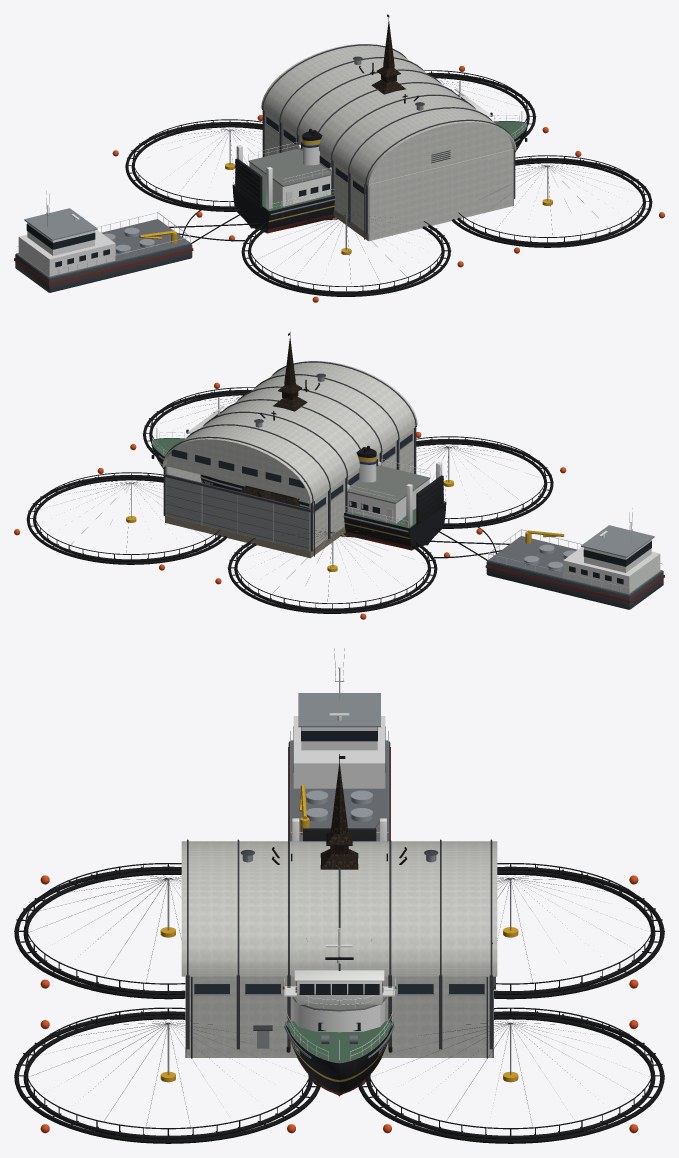
The model's file is props_fjord.glb.
3 views of the same model, one above another, from view 1: azimuth 30°, elevation 25°; view 2: azimuth 150°, elevation 25°; view 3: azimuth 270°, elevation 25° (orthographic). The views are drawn at different scales.
Visible parts, largest first — view 1: hangar_a__b_corr_white, fish_farm__f_vc, ferry_jp__f_vc, hangar_a__f_vc, ferry_jp__hull_ferry_no, stave_church__b_shingle; view 2: hangar_a__b_corr_white, fish_farm__f_vc, hangar_a__f_vc, ferry_jp__f_vc, ferry_jp__hull_ferry_no, hangar_a__b_concrete, stave_church__b_shingle; view 3: hangar_a__b_corr_white, fish_farm__f_vc, ferry_jp__f_vc, hangar_a__f_vc, ferry_jp__hull_ferry_no, stave_church__b_shingle.
Part boxes in pixels (<box>): hangar_a__b_corr_white: <box>261,44,516,240</box>; fish_farm__f_vc: <box>14,66,664,302</box>; ferry_jp__f_vc: <box>232,80,527,233</box>; hangar_a__f_vc: <box>262,44,515,239</box>; ferry_jp__hull_ferry_no: <box>232,121,527,229</box>; stave_church__b_shingle: <box>371,21,405,94</box>; hangar_a__b_corr_white: <box>162,361,417,550</box>; fish_farm__f_vc: <box>14,382,664,619</box>; hangar_a__f_vc: <box>163,361,416,556</box>; ferry_jp__f_vc: <box>151,397,446,550</box>; ferry_jp__hull_ferry_no: <box>151,438,445,546</box>; hangar_a__b_concrete: <box>165,490,363,558</box>; stave_church__b_shingle: <box>240,338,307,506</box>; hangar_a__b_corr_white: <box>181,841,497,1057</box>; fish_farm__f_vc: <box>14,648,664,1143</box>; ferry_jp__f_vc: <box>282,818,396,1096</box>; hangar_a__f_vc: <box>186,839,495,1058</box>; ferry_jp__hull_ferry_no: <box>285,1022,393,1092</box>; stave_church__b_shingle: <box>320,764,358,869</box>.
Size of the model in its own units: 91.6 by 29.45 by 63.91.
Materials: 22 (21 with a texture image).
